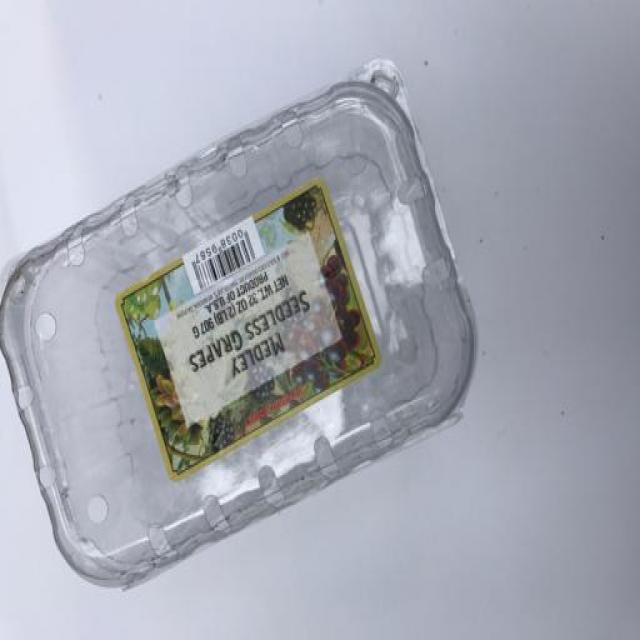Waste: (0, 63, 475, 587)
